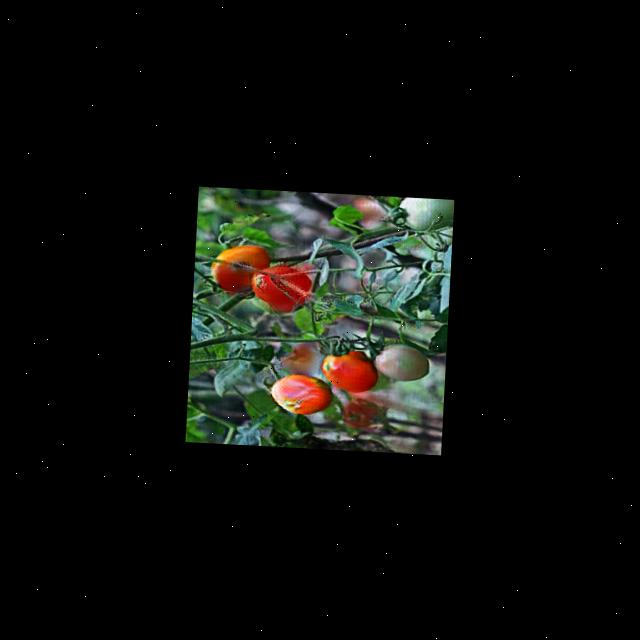tomato: (250, 263, 312, 315), (271, 372, 332, 417), (320, 346, 374, 396), (213, 245, 268, 292)
